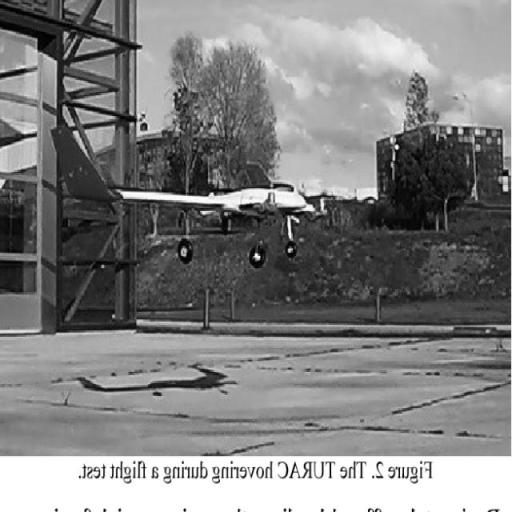uav: (44, 125, 326, 255)
